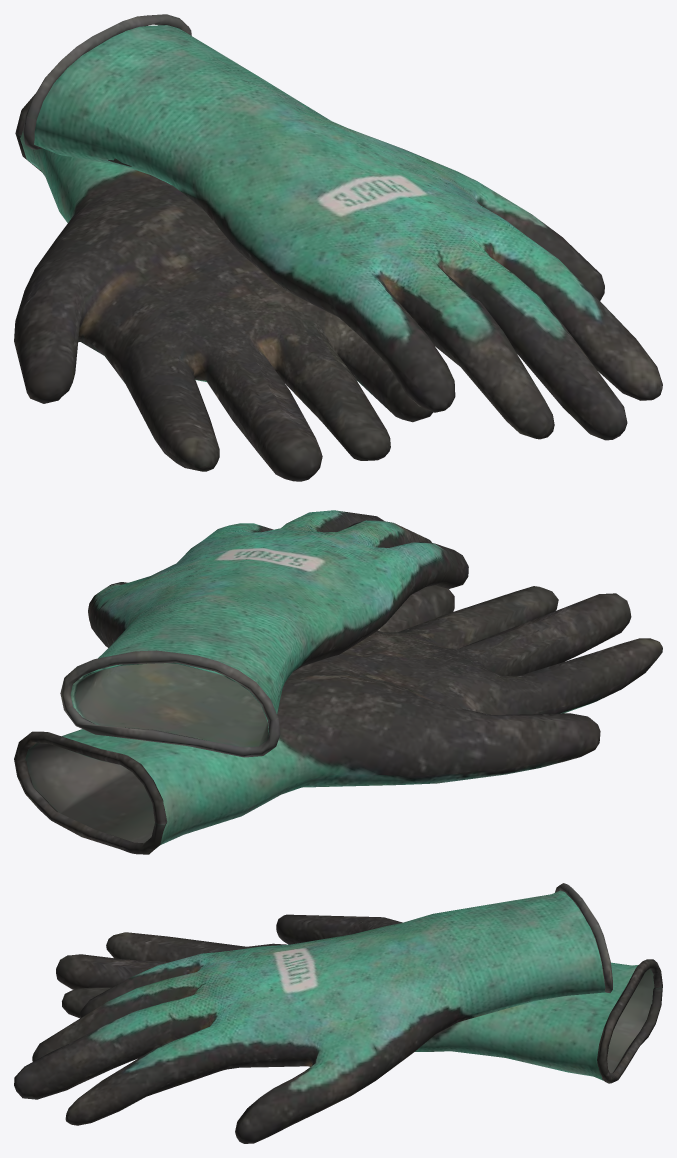
The model's file is garden_gloves_01.568bc25bfd.glb.
3 renders of one model, top to bottom at view 1: azimuth 30°, elevation 25°; view 2: azimuth 150°, elevation 25°; view 3: azimuth 270°, elevation 25°, orthographic. The views are drawn at different scales.
Visible parts, largest first — view 1: garden_gloves_01; view 2: garden_gloves_01; view 3: garden_gloves_01.
Part boxes in pixels (x1,y1,x2,y2): garden_gloves_01: (14, 14, 662, 481); garden_gloves_01: (14, 510, 662, 854); garden_gloves_01: (14, 883, 662, 1143).
Size of the model in its own units: 0.226 by 0.0759 by 0.2988.
Materials: 1 (1 with a texture image).
